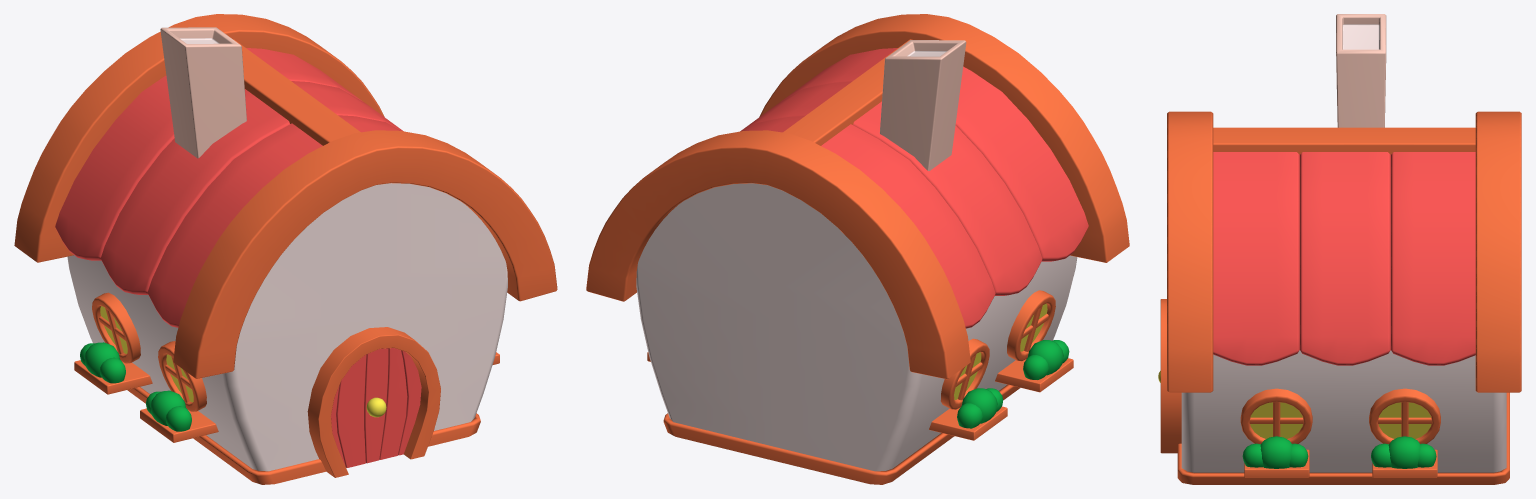
The model's file is Farm_10_House_1.glb.
3 renders of one model, left to right at view 1: azimuth 30°, elevation 25°; view 2: azimuth 150°, elevation 25°; view 3: azimuth 270°, elevation 25°, orthographic. The views are drawn at different scales.
Visible parts, largest first — view 1: Farm_10_House_1; view 2: Farm_10_House_1; view 3: Farm_10_House_1.
Boxes of the visible parts, left/top/right/bottom form: Farm_10_House_1: left=14, top=14, right=557, bottom=484; Farm_10_House_1: left=586, top=14, right=1129, bottom=484; Farm_10_House_1: left=1158, top=14, right=1521, bottom=484.
Size of the model in its own units: 5.9 by 5.9 by 5.27.
Materials: 1 (1 with a texture image).
